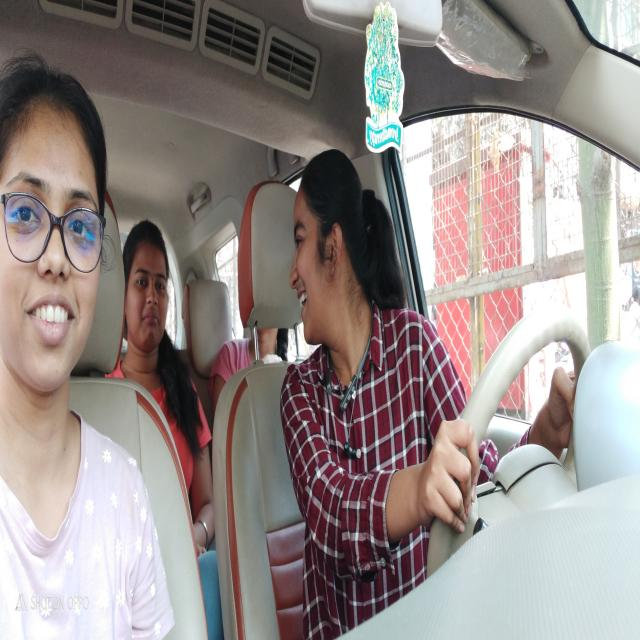LeftRight: (287, 149, 367, 350)
person: (0, 49, 114, 402), (123, 219, 171, 361)
talking: (295, 281, 311, 326)
